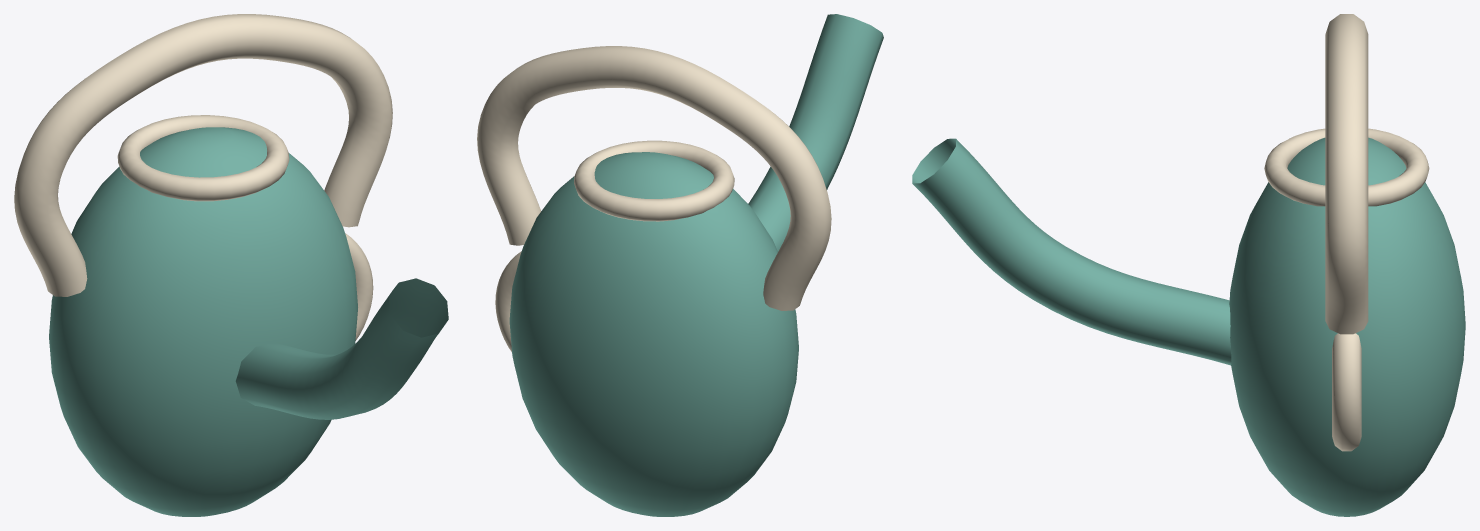
The model's file is life-props.glb.
3 views of the same model, side by side, from view 1: azimuth 30°, elevation 25°; view 2: azimuth 150°, elevation 25°; view 3: azimuth 270°, elevation 25° (orthographic). The views are drawn at different scales.
Parts seen in each view (by area): view 1: Can body, Can handle, Can spout, Can lip, Cup handle; view 2: Can body, Can handle, Can spout, Can lip, Cup handle; view 3: Can body, Can spout, Can handle, Can lip, Cup handle.
Boxes of the visible parts, x1=… form: Can body: x1=49, y1=127, x2=357, y2=516; Can handle: x1=14, y1=14, x2=392, y2=296; Can spout: x1=235, y1=278, x2=448, y2=419; Can lip: x1=117, y1=115, x2=289, y2=201; Cup handle: x1=345, y1=233, x2=373, y2=340; Can body: x1=509, y1=152, x2=798, y2=516; Can handle: x1=477, y1=46, x2=831, y2=310; Can spout: x1=748, y1=14, x2=883, y2=251; Can lip: x1=574, y1=140, x2=734, y2=221; Cup handle: x1=495, y1=251, x2=521, y2=351; Can body: x1=1229, y1=137, x2=1465, y2=516; Can spout: x1=912, y1=138, x2=1231, y2=365; Can handle: x1=1325, y1=14, x2=1368, y2=334; Can lip: x1=1264, y1=128, x2=1429, y2=206; Cup handle: x1=1332, y1=333, x2=1361, y2=451.
Size of the model in its own units: 0.2492 by 0.3123 by 0.3352.
